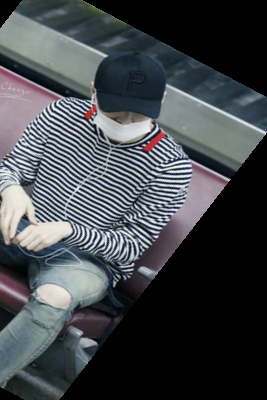mask_weared_incorrect: (85, 48, 178, 151)
